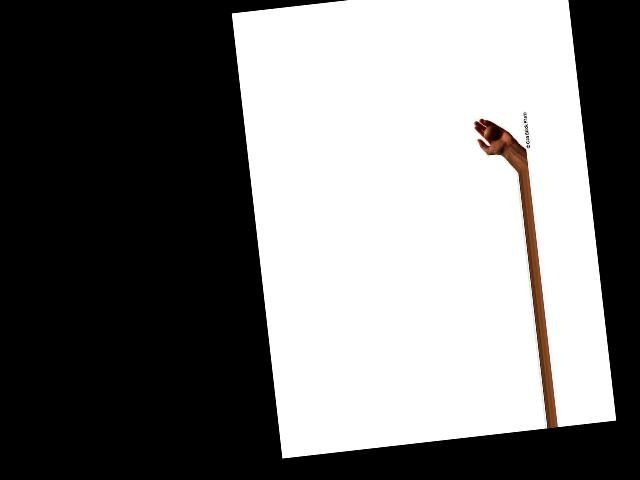egg: (483, 124, 498, 139)
